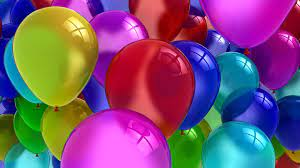Balloon: (12, 5, 99, 109), (104, 40, 194, 137), (61, 109, 173, 168), (202, 120, 275, 168), (252, 29, 300, 88)
